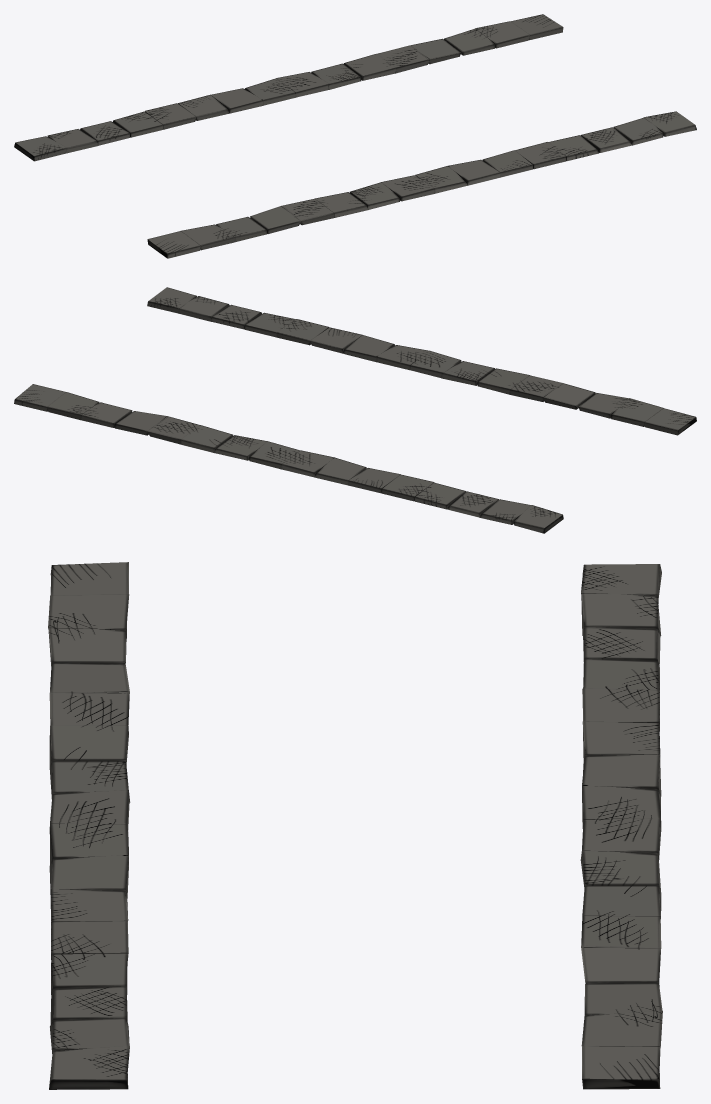
The model's file is PavementPiece_Repeater.fbx.
3 views of the same model, one above another, from view 1: azimuth 30°, elevation 25°; view 2: azimuth 150°, elevation 25°; view 3: azimuth 270°, elevation 25° (orthographic). The views are drawn at different scales.
Visible parts, largest first — view 1: PavementPiece_Repeater; view 2: PavementPiece_Repeater; view 3: PavementPiece_Repeater.
Boxes of the visible parts, box(x1,y1,x2,y2) form: PavementPiece_Repeater: box(14, 14, 696, 258); PavementPiece_Repeater: box(14, 287, 696, 533); PavementPiece_Repeater: box(48, 562, 662, 1089).
Size of the model in its own units: 1606 by 17.75 by 807.
